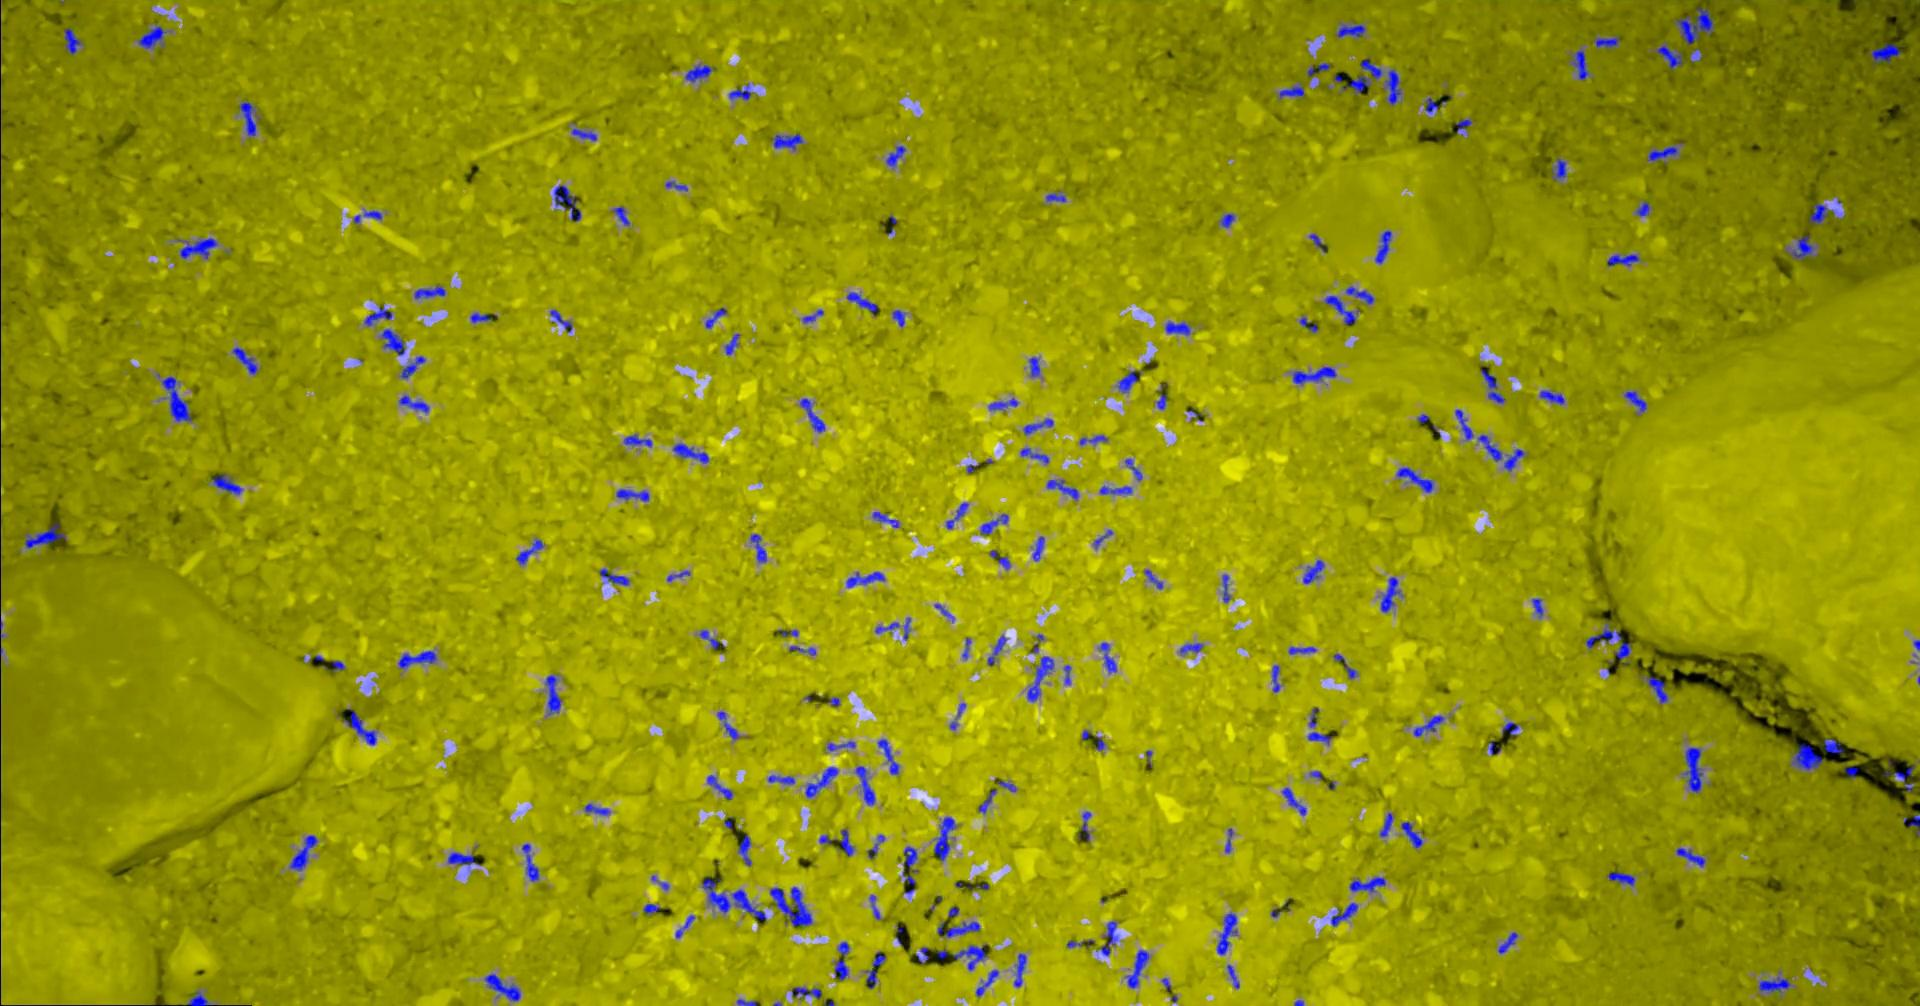ant: (701, 876, 766, 920), (1585, 622, 1630, 659), (770, 887, 811, 926), (1675, 6, 1713, 43), (161, 376, 192, 420), (1027, 655, 1053, 701), (343, 710, 376, 744), (24, 522, 65, 547), (933, 815, 956, 860), (1324, 295, 1359, 324), (552, 185, 580, 221), (290, 835, 317, 870), (484, 973, 521, 1000), (1479, 365, 1505, 403), (805, 766, 837, 796), (1396, 467, 1432, 492), (952, 944, 985, 970), (799, 398, 824, 432), (1684, 747, 1702, 793), (1217, 912, 1236, 954), (1126, 950, 1148, 987), (1291, 366, 1336, 384), (1884, 765, 1914, 791), (902, 846, 918, 893), (179, 238, 217, 258), (1792, 743, 1822, 768), (877, 738, 899, 774), (846, 292, 877, 316), (855, 765, 874, 804), (672, 443, 709, 464), (865, 951, 885, 988), (1380, 575, 1399, 612), (937, 921, 979, 937), (380, 328, 405, 354), (397, 650, 436, 668), (521, 843, 538, 882), (232, 345, 257, 373), (516, 539, 543, 563), (1281, 788, 1305, 815), (1330, 902, 1357, 926), (1870, 42, 1901, 64), (211, 473, 241, 494), (545, 674, 561, 714), (1046, 479, 1078, 499), (706, 774, 731, 799), (1656, 44, 1683, 69), (1477, 434, 1501, 461), (138, 25, 166, 48), (400, 354, 425, 379), (945, 502, 968, 528), (1100, 921, 1117, 955), (975, 969, 998, 996), (1646, 674, 1667, 702), (716, 711, 738, 739), (1413, 715, 1443, 735), (237, 102, 255, 135), (846, 572, 884, 587), (1333, 653, 1356, 678), (1675, 847, 1705, 866), (364, 304, 391, 325), (1401, 821, 1422, 847), (1384, 69, 1399, 105), (987, 635, 1006, 664), (1790, 235, 1813, 259), (1374, 230, 1390, 263), (1757, 976, 1790, 992), (1455, 409, 1473, 439), (980, 513, 1007, 533), (1098, 641, 1116, 672), (834, 941, 848, 979), (549, 309, 571, 332), (1117, 370, 1140, 392), (1302, 559, 1323, 583), (684, 64, 714, 81), (599, 568, 629, 586), (1349, 876, 1385, 890), (1572, 50, 1589, 80), (397, 395, 428, 412), (1345, 286, 1373, 304), (1359, 57, 1382, 79), (1023, 418, 1053, 434), (63, 28, 81, 55), (772, 133, 803, 149), (1647, 146, 1677, 161), (1341, 75, 1369, 91), (698, 629, 723, 648), (885, 145, 905, 166), (705, 307, 726, 328), (1624, 391, 1646, 412), (1503, 448, 1524, 470), (676, 915, 695, 937), (978, 789, 996, 813), (1020, 447, 1048, 462), (750, 533, 766, 561), (616, 488, 649, 500), (872, 511, 898, 527), (1497, 932, 1517, 953), (1808, 202, 1827, 224), (353, 210, 381, 224), (1606, 871, 1634, 885), (414, 286, 444, 298), (1077, 810, 1090, 841), (738, 835, 750, 865), (1124, 459, 1142, 480), (1013, 953, 1025, 986), (839, 829, 853, 856), (988, 398, 1017, 410), (728, 84, 752, 99), (185, 989, 210, 1005), (1308, 232, 1327, 251), (1608, 254, 1639, 265), (447, 852, 479, 864), (1144, 569, 1162, 589), (1336, 24, 1364, 37), (1539, 390, 1564, 404), (623, 433, 651, 446), (791, 987, 822, 998), (1225, 964, 1239, 988), (724, 333, 739, 354), (1903, 813, 1919, 835), (1307, 732, 1332, 744), (1550, 158, 1566, 178), (1164, 321, 1189, 334), (1379, 812, 1392, 836), (1098, 485, 1131, 494), (1595, 36, 1618, 48), (1307, 62, 1330, 75), (1279, 86, 1304, 98), (613, 206, 629, 225), (1299, 316, 1318, 332), (1823, 738, 1843, 753), (584, 803, 610, 814), (803, 309, 823, 323), (1079, 434, 1107, 445), (571, 128, 596, 140), (1032, 536, 1044, 560), (789, 645, 815, 655), (767, 774, 794, 784), (954, 882, 988, 889), (825, 741, 855, 749), (869, 894, 879, 920), (1065, 939, 1093, 948), (874, 622, 898, 633), (1178, 643, 1203, 653), (643, 903, 667, 913), (1501, 721, 1517, 735), (891, 309, 904, 326), (665, 180, 687, 191), (470, 312, 491, 323), (323, 661, 344, 671), (996, 780, 1015, 791), (1455, 119, 1470, 133), (1222, 574, 1229, 602), (1288, 647, 1316, 654), (1425, 97, 1437, 113), (1029, 356, 1039, 376), (1271, 666, 1279, 692), (1636, 201, 1650, 215), (1220, 213, 1234, 227), (1531, 598, 1542, 617), (916, 948, 928, 963), (1844, 765, 1858, 777), (1156, 392, 1166, 409), (997, 556, 1010, 569), (1045, 193, 1065, 201)
